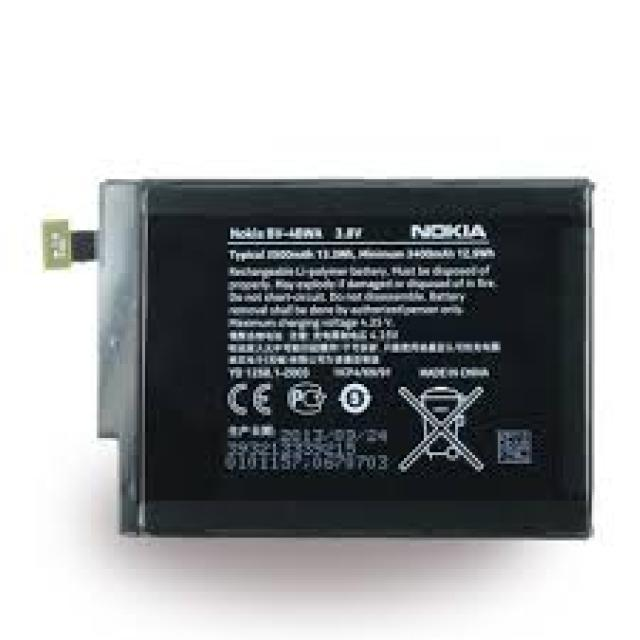Battery: (38, 137, 608, 563)
